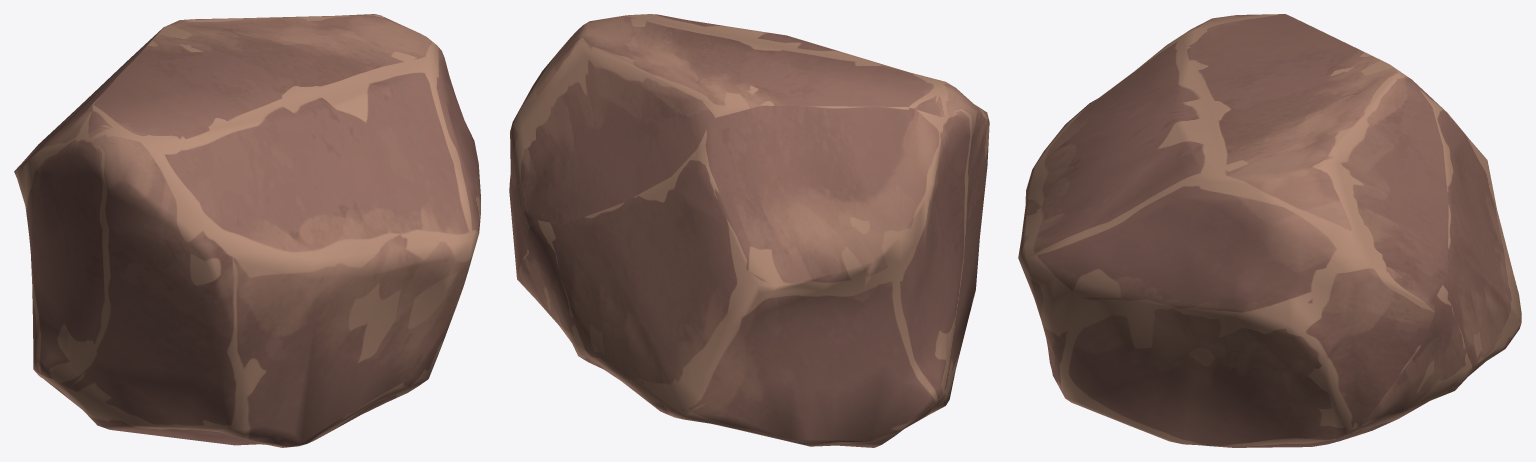
File: roche1 texturée.FBX
3 views of the same model, side by side, from view 1: azimuth 30°, elevation 25°; view 2: azimuth 150°, elevation 25°; view 3: azimuth 270°, elevation 25° (orthographic). The views are drawn at different scales.
Visible parts, largest first — view 1: Group60207; view 2: Group60207; view 3: Group60207.
Part boxes in pixels (x1=…): Group60207: x1=14, y1=14, x2=480, y2=447; Group60207: x1=509, y1=14, x2=989, y2=447; Group60207: x1=1018, y1=14, x2=1521, y2=447.
Size of the model in its own units: 32.23 by 24.45 by 32.53.
1 material, 1 textured.
